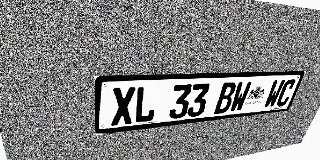3: (168, 84, 193, 119), (186, 83, 211, 117)
B: (214, 82, 238, 114)
C: (275, 79, 297, 107)
L: (134, 86, 158, 123)
W: (229, 81, 252, 112), (263, 80, 286, 109)
X: (111, 87, 136, 126)
